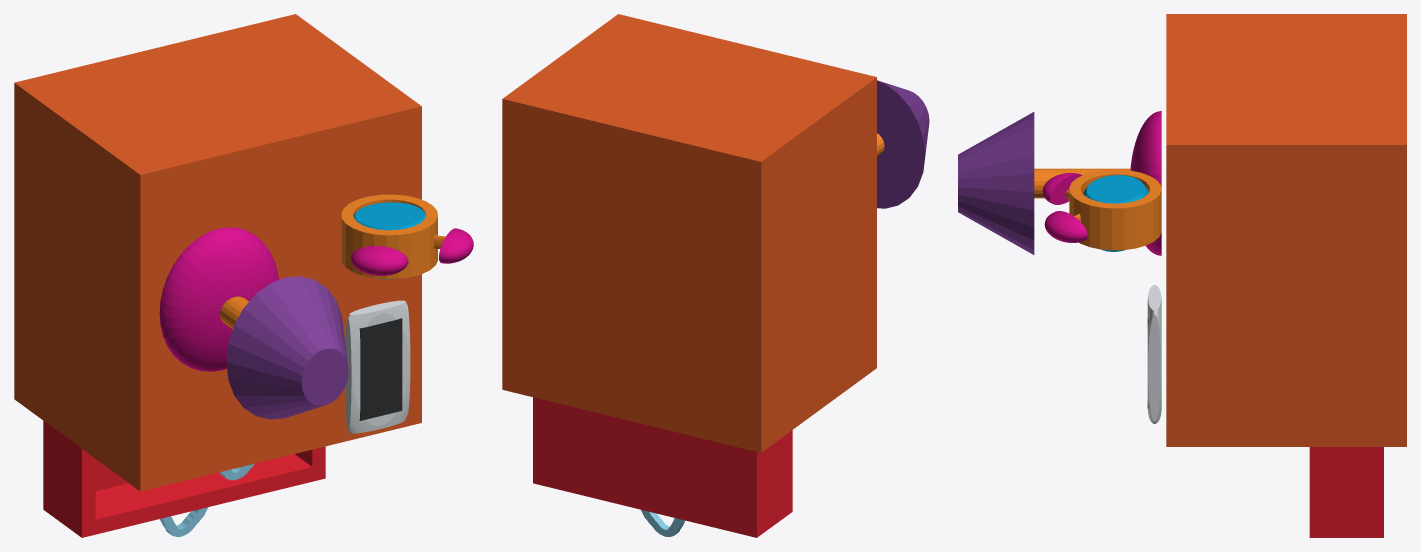
Rendered from tinker.obj.
3 renders of one model, left to right at view 1: azimuth 30°, elevation 25°; view 2: azimuth 150°, elevation 25°; view 3: azimuth 270°, elevation 25°, orthographic. The views are drawn at different scales.
Parts seen in each view (by area): view 1: group_0_14900002, group_0_8273816, group_0_14093196, group_0_15277357, group_0_16089887, group_0_14541540, group_0_2829873, group_0_40919, group_0_8768998; view 2: group_0_14900002, group_0_15277357, group_0_8273816, group_0_8768998; view 3: group_0_14900002, group_0_8273816, group_0_15277357, group_0_16089887, group_0_14093196, group_0_14541540, group_0_40919.
Boxes of the visible parts, <box> form: group_0_14900002: <box>14,14,421,491</box>; group_0_8273816: <box>226,276,348,419</box>; group_0_14093196: <box>159,227,473,371</box>; group_0_15277357: <box>43,421,325,537</box>; group_0_16089887: <box>220,194,445,329</box>; group_0_14541540: <box>345,300,410,433</box>; group_0_2829873: <box>359,318,402,420</box>; group_0_40919: <box>353,202,425,279</box>; group_0_8768998: <box>160,463,254,536</box>; group_0_14900002: <box>502,14,876,452</box>; group_0_15277357: <box>533,397,792,537</box>; group_0_8273816: <box>877,80,929,208</box>; group_0_8768998: <box>641,510,684,536</box>; group_0_14900002: <box>1166,14,1406,446</box>; group_0_8273816: <box>958,112,1034,254</box>; group_0_15277357: <box>1309,447,1383,537</box>; group_0_16089887: <box>1034,168,1161,250</box>; group_0_14093196: <box>1042,111,1161,255</box>; group_0_14541540: <box>1147,285,1161,423</box>; group_0_40919: <box>1083,175,1148,251</box>.
Size of the model in its own units: 67 by 105 by 97.
